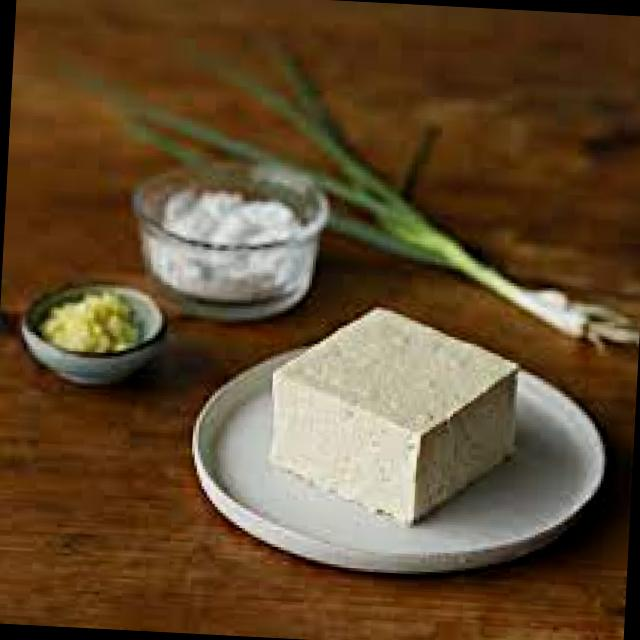tof: (264, 294, 536, 542)
